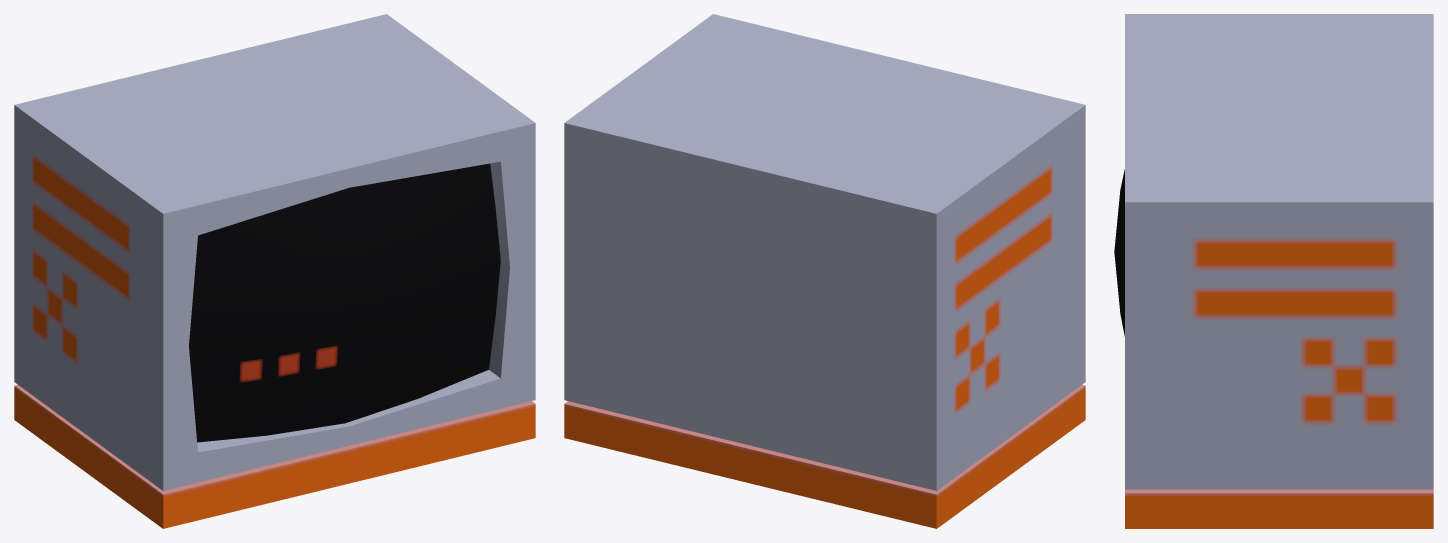
Rendered from PCbreak2.fbx.
The picture shows the model from 3 angles, left to right: view 1: azimuth 30°, elevation 25°; view 2: azimuth 150°, elevation 25°; view 3: azimuth 270°, elevation 25°; orthographic projection. The views are drawn at different scales.
Visible parts, largest first — view 1: Куб.086; view 2: Куб.086; view 3: Куб.086.
Boxes of the visible parts, <box> form: Куб.086: <box>14,14,535,528</box>; Куб.086: <box>564,14,1085,528</box>; Куб.086: <box>1114,14,1433,528</box>.
Bounding box in the file's own units: 94.42 × 76.31 × 67.63.
